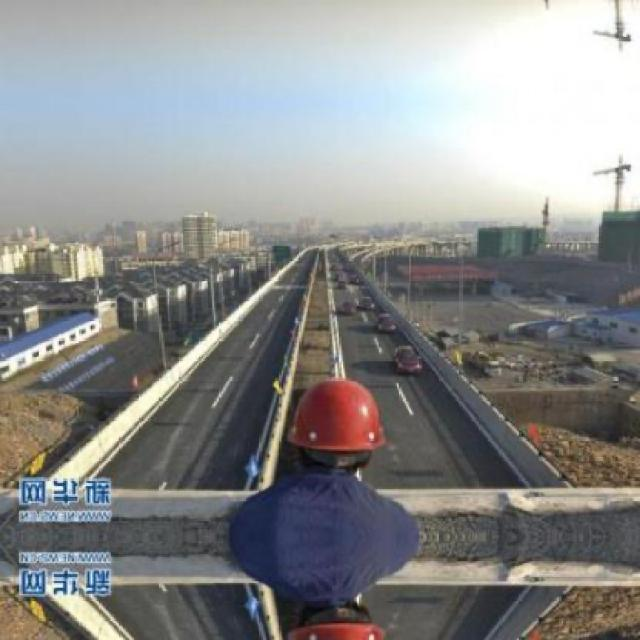helmet: (282, 370, 388, 484), (282, 588, 389, 638)
